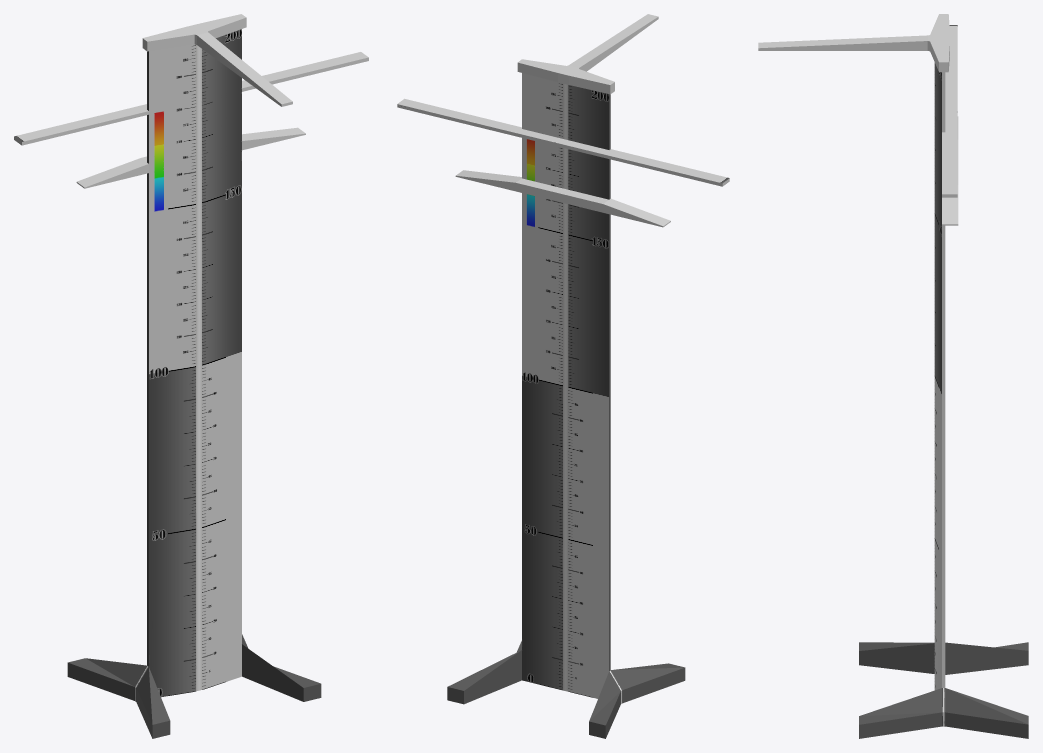
The model's file is ruler.FBX.
The picture shows the model from 3 angles, left to right: view 1: azimuth 30°, elevation 25°; view 2: azimuth 150°, elevation 25°; view 3: azimuth 270°, elevation 25°; orthographic projection. The views are drawn at different scales.
Visible parts, largest first — view 1: ruler; view 2: ruler; view 3: ruler.
Boxes of the visible parts, box(x1,y1,x2,y2) form: ruler: box(14, 14, 368, 738); ruler: box(397, 14, 729, 738); ruler: box(758, 14, 1028, 738).
Size of the model in its own units: 1118 by 2030 by 754.
1 material, 1 textured.
